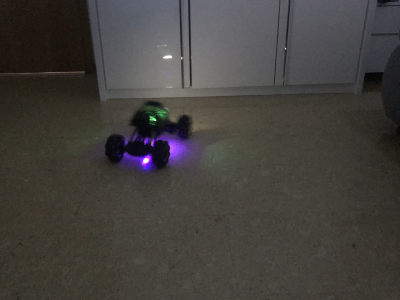remote control car: (103, 96, 193, 170)
